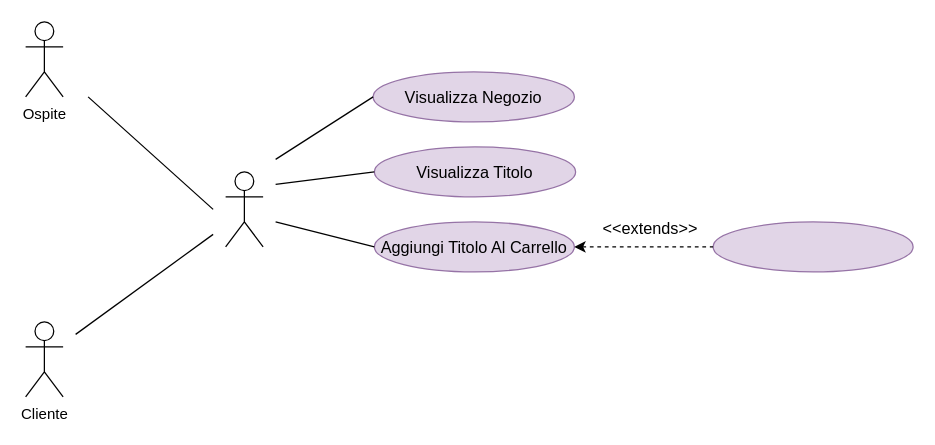
Image size: 935x445. Some labels were removed from this diagram. The centre of each missing label's shape, as x and y in pixels:
Login: the point at 812,246
Utente: the point at 243,209
